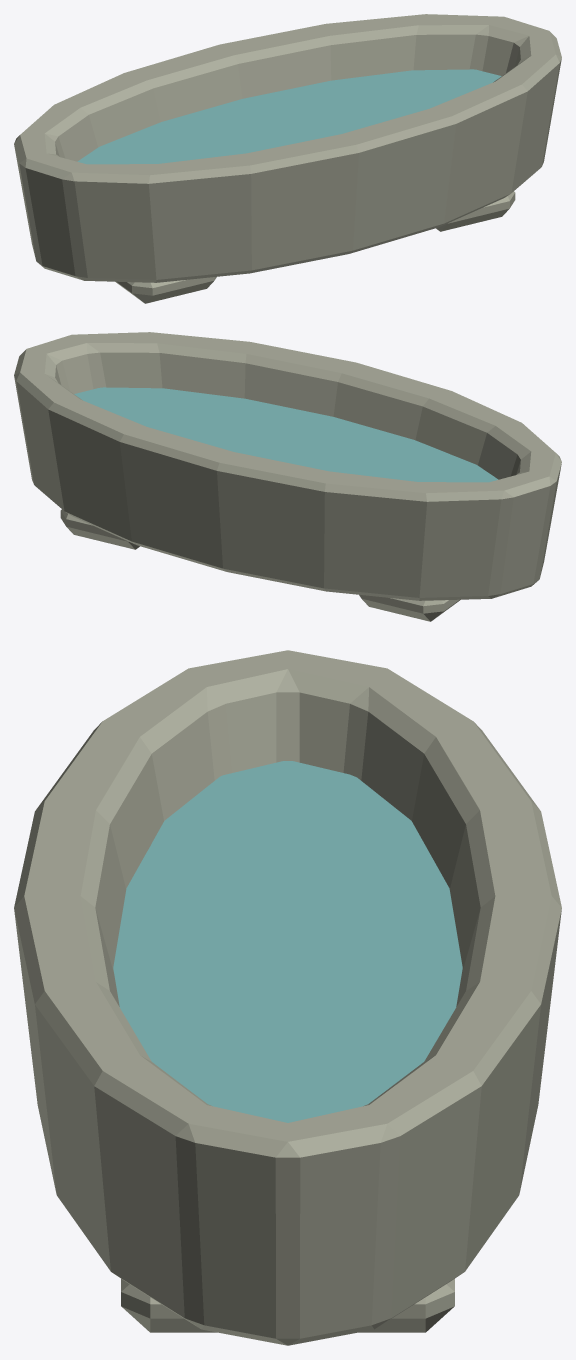
3 renders of one model, top to bottom at view 1: azimuth 30°, elevation 25°; view 2: azimuth 150°, elevation 25°; view 3: azimuth 270°, elevation 25°, orthographic. The views are drawn at different scales.
Visible parts, largest first — view 1: BA-0063 batched; view 2: BA-0063 batched; view 3: BA-0063 batched.
Part boxes in pixels (box(x1,y1,x2,y2)): BA-0063 batched: box(14, 14, 561, 303); BA-0063 batched: box(14, 332, 561, 621); BA-0063 batched: box(14, 650, 561, 1345).
Bounding box in the file's own units: 2.23 × 0.56 × 1.03.
